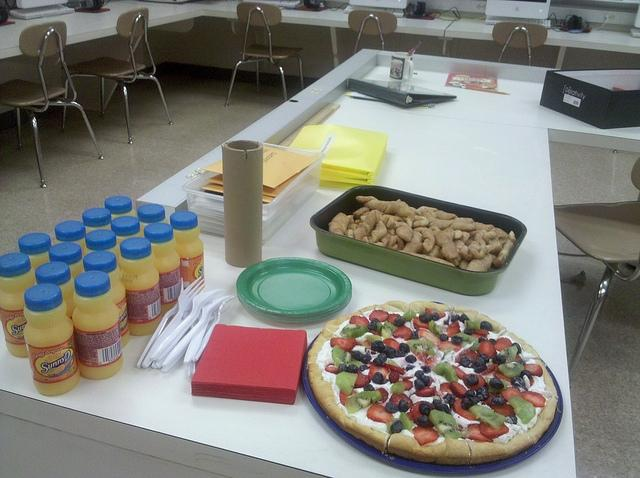blueberry: (418, 400, 434, 416), (476, 386, 489, 401), (391, 420, 404, 434), (370, 340, 386, 351), (492, 354, 506, 366), (490, 377, 504, 389), (473, 362, 487, 374), (382, 346, 396, 358), (385, 402, 399, 413), (444, 394, 456, 406), (460, 356, 472, 368), (512, 376, 526, 386), (491, 395, 505, 405), (372, 372, 383, 384), (398, 400, 409, 412), (461, 398, 472, 410), (466, 376, 479, 386), (420, 375, 430, 387), (480, 322, 492, 332), (512, 342, 522, 354), (417, 416, 429, 426), (399, 344, 410, 354), (394, 316, 405, 326), (432, 400, 443, 410), (419, 314, 430, 324), (520, 370, 531, 380), (406, 354, 416, 364), (459, 314, 469, 324), (352, 350, 362, 360), (508, 414, 518, 424), (338, 364, 348, 374), (438, 404, 449, 413), (348, 364, 359, 373), (429, 312, 440, 321), (450, 336, 462, 344), (373, 358, 385, 366), (464, 390, 476, 398), (420, 366, 430, 374), (439, 334, 449, 342), (406, 364, 416, 372), (370, 318, 380, 326), (368, 323, 378, 331), (364, 384, 374, 391), (451, 314, 459, 322), (512, 385, 520, 391)
kiwi: (429, 410, 462, 440), (468, 404, 505, 430), (345, 390, 382, 414), (508, 394, 536, 424), (332, 344, 365, 367), (452, 332, 480, 352), (336, 372, 358, 396), (432, 362, 458, 382), (498, 362, 524, 378), (486, 377, 510, 394), (404, 337, 426, 354), (498, 346, 518, 362), (398, 412, 414, 431), (428, 320, 444, 338), (376, 322, 392, 338), (390, 382, 406, 394), (403, 308, 417, 321), (365, 335, 382, 343)
strawberry: (410, 400, 436, 428), (480, 421, 510, 440), (454, 399, 479, 421), (366, 404, 393, 424), (412, 426, 438, 446), (456, 348, 480, 368), (468, 424, 493, 442), (520, 391, 546, 407), (464, 374, 486, 392), (390, 392, 412, 408), (418, 330, 440, 346), (478, 340, 497, 358), (370, 363, 390, 380), (330, 337, 356, 350), (490, 404, 516, 416), (501, 387, 523, 401), (354, 371, 372, 388), (448, 381, 466, 398), (436, 340, 462, 351), (493, 336, 512, 351), (383, 363, 406, 375), (340, 390, 357, 406), (393, 326, 412, 340), (447, 321, 462, 338), (413, 316, 430, 331), (481, 362, 499, 376), (524, 364, 543, 377), (452, 365, 468, 380), (470, 328, 490, 340), (374, 387, 388, 404), (382, 338, 400, 350), (425, 308, 446, 318), (369, 310, 388, 321), (424, 356, 440, 369), (415, 387, 435, 397), (494, 371, 512, 382), (481, 392, 497, 404), (350, 316, 369, 326), (401, 377, 414, 391), (440, 382, 450, 398), (387, 314, 401, 325), (324, 367, 338, 374)
